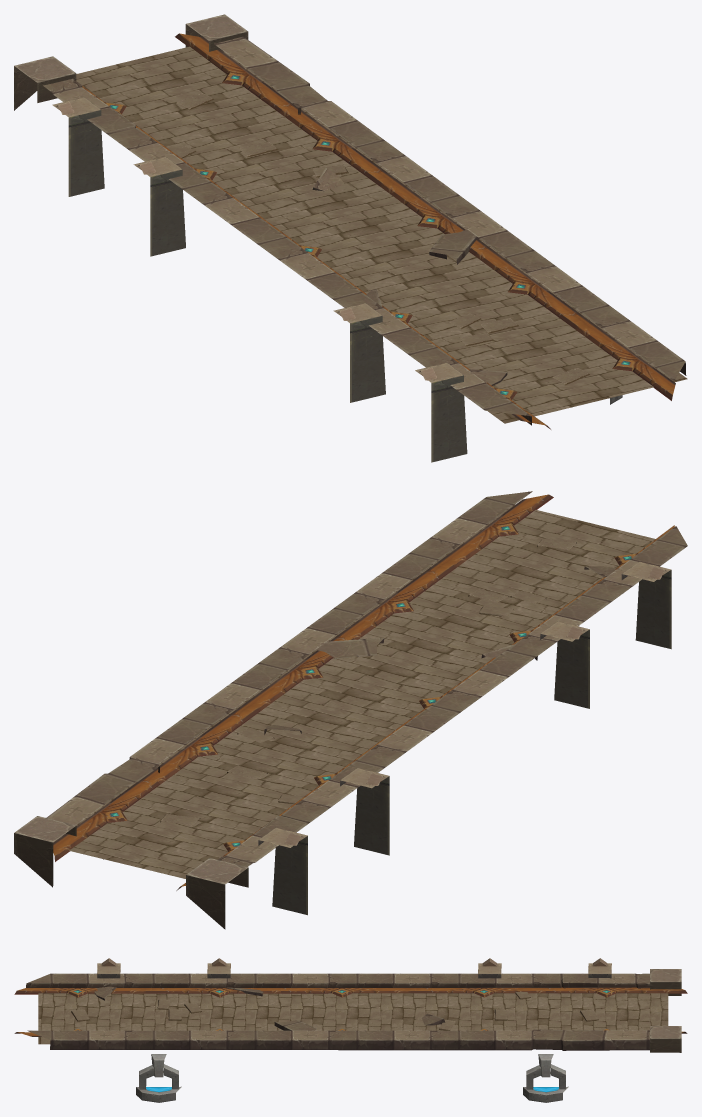
The model's file is terrain_section03_guanka1104.FBX.
The picture shows the model from 3 angles, top to bottom: view 1: azimuth 30°, elevation 25°; view 2: azimuth 150°, elevation 25°; view 3: azimuth 270°, elevation 25°; orthographic projection. The views are drawn at different scales.
Parts seen in each view (by area): view 1: terrain_section03_guanka1104; view 2: terrain_section03_guanka1104; view 3: terrain_section03_guanka1104.
Part boxes in pixels (left/top/right/bottom): terrain_section03_guanka1104: left=14, top=14, right=687, bottom=462; terrain_section03_guanka1104: left=14, top=491, right=687, bottom=929; terrain_section03_guanka1104: left=14, top=958, right=687, bottom=1102.
Bounding box in the file's own units: 10.7 × 4.39 × 39.46.
